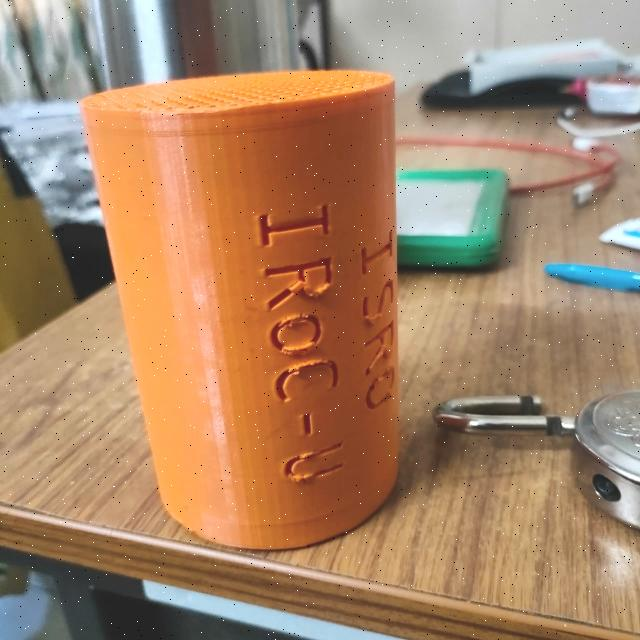Cylinder: (79, 67, 401, 550)
